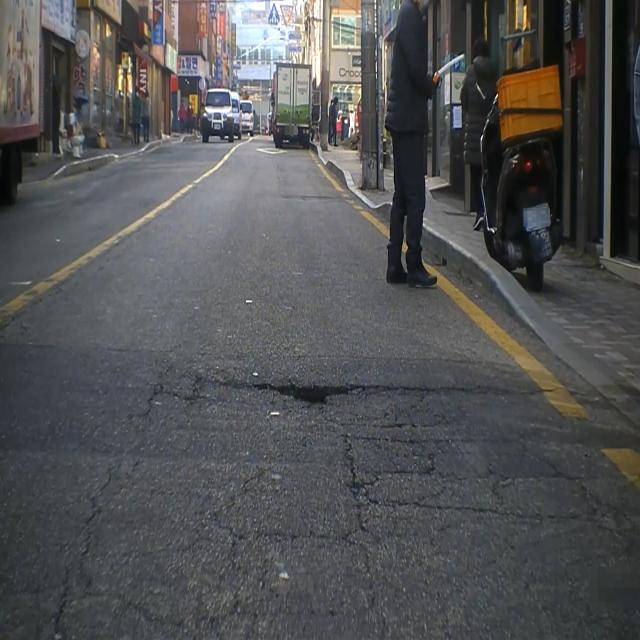Pothole: (258, 375, 372, 425)
